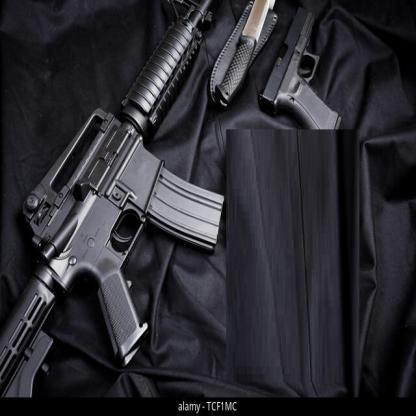Gun: (1, 2, 224, 397)
Knife: (211, 0, 278, 107)
Pistol: (258, 3, 354, 129)
